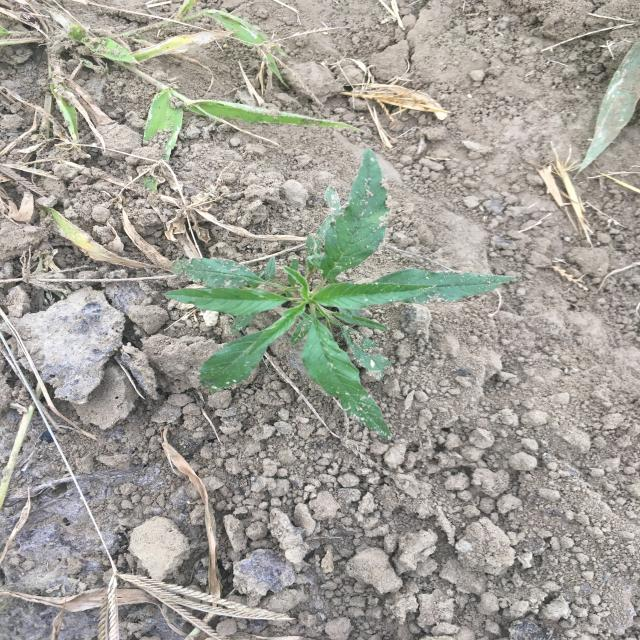Waterhemp: (163, 146, 524, 442)
